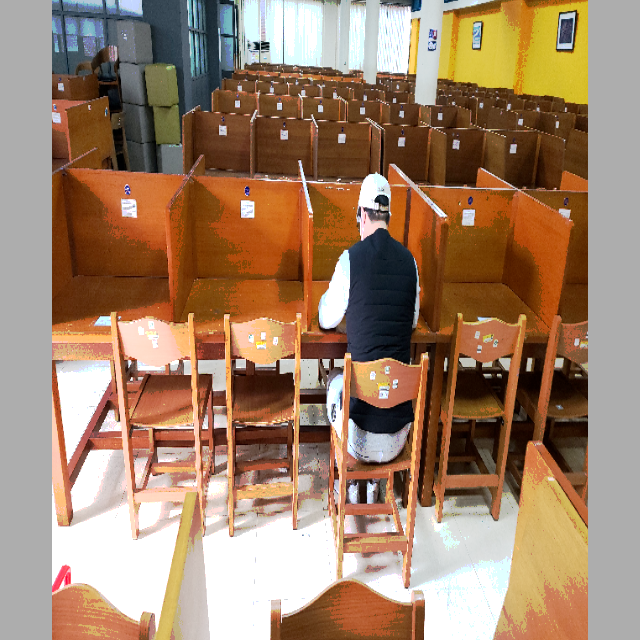empty: (177, 172, 304, 422), (55, 164, 173, 418)
full: (309, 168, 439, 460)
